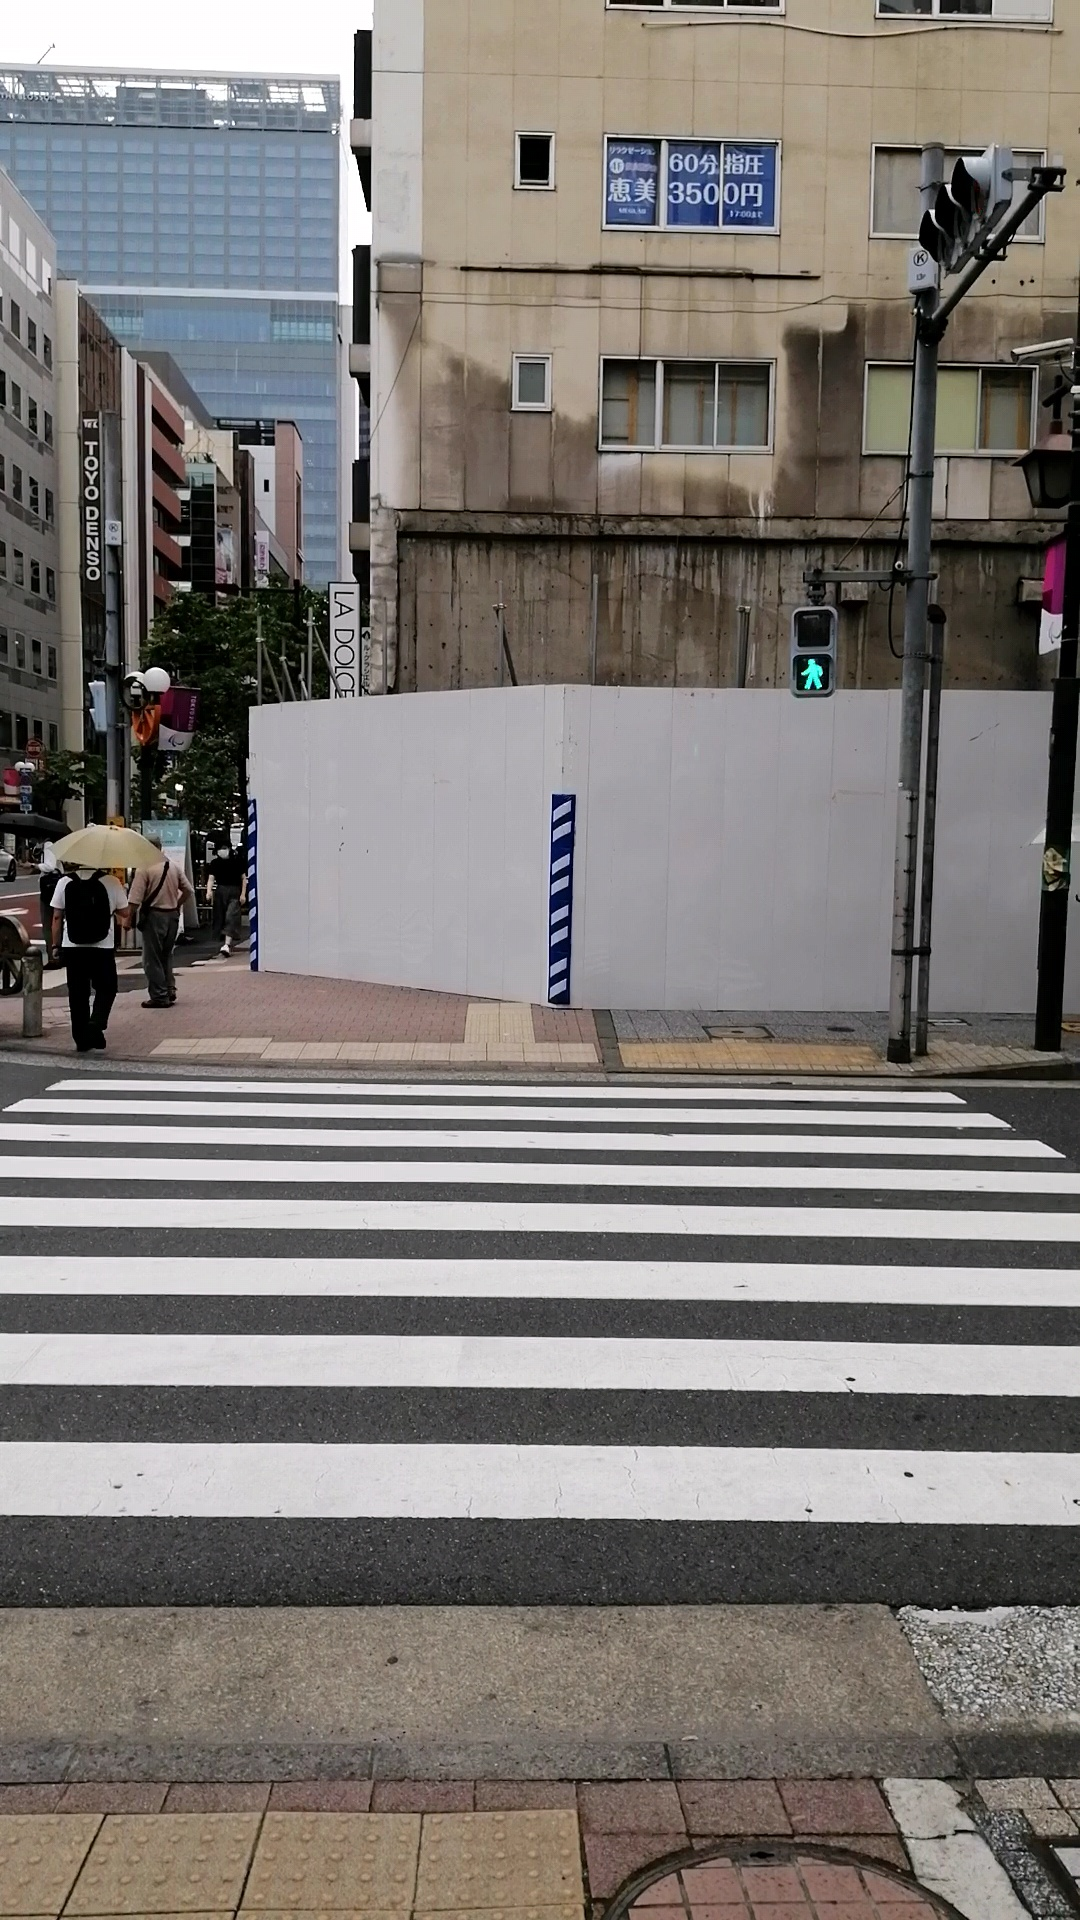green: (790, 607, 837, 699)
